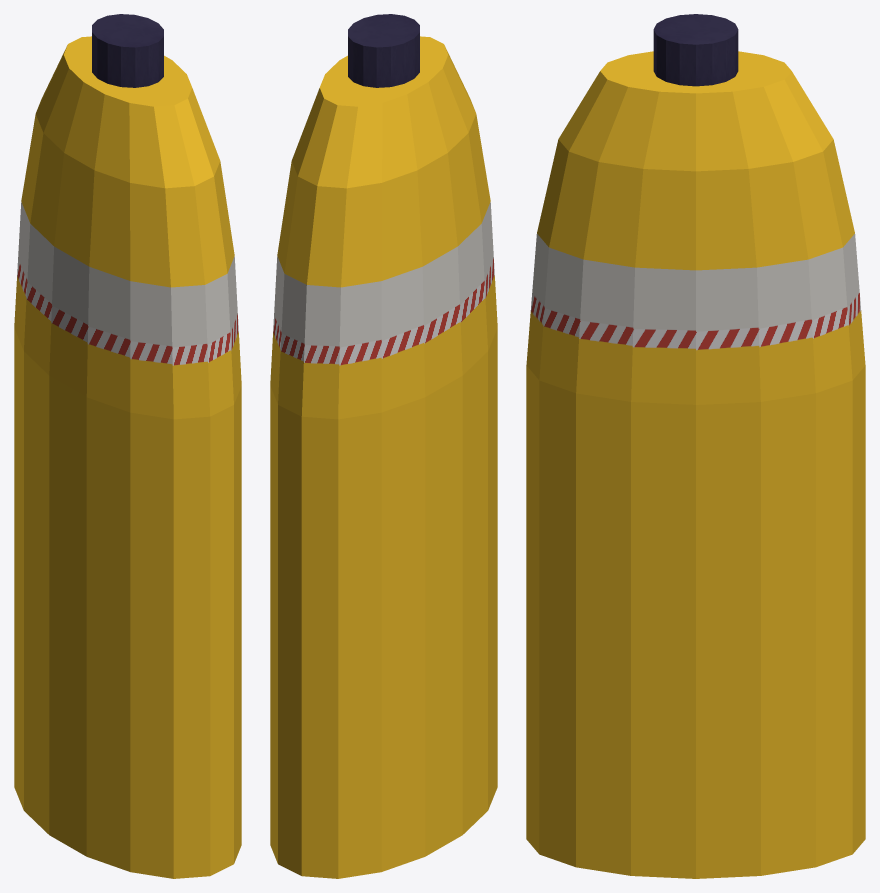
The model's file is Seife 1.fbx.
3 renders of one model, left to right at view 1: azimuth 30°, elevation 25°; view 2: azimuth 150°, elevation 25°; view 3: azimuth 270°, elevation 25°, orthographic. The views are drawn at different scales.
Visible parts, largest first — view 1: Seife; view 2: Seife; view 3: Seife.
Part boxes in pixels (<box>): Seife: <box>14,14,241,878</box>; Seife: <box>270,14,497,878</box>; Seife: <box>526,14,865,878</box>.
Size of the model in its own units: 5.53 by 26.36 by 10.
